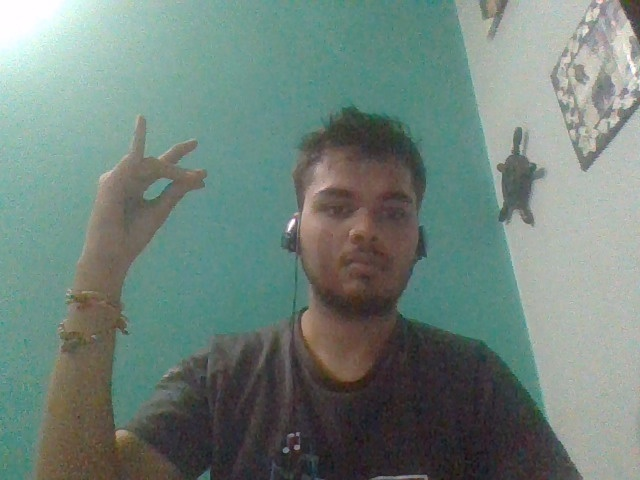no: (81, 113, 210, 259)
